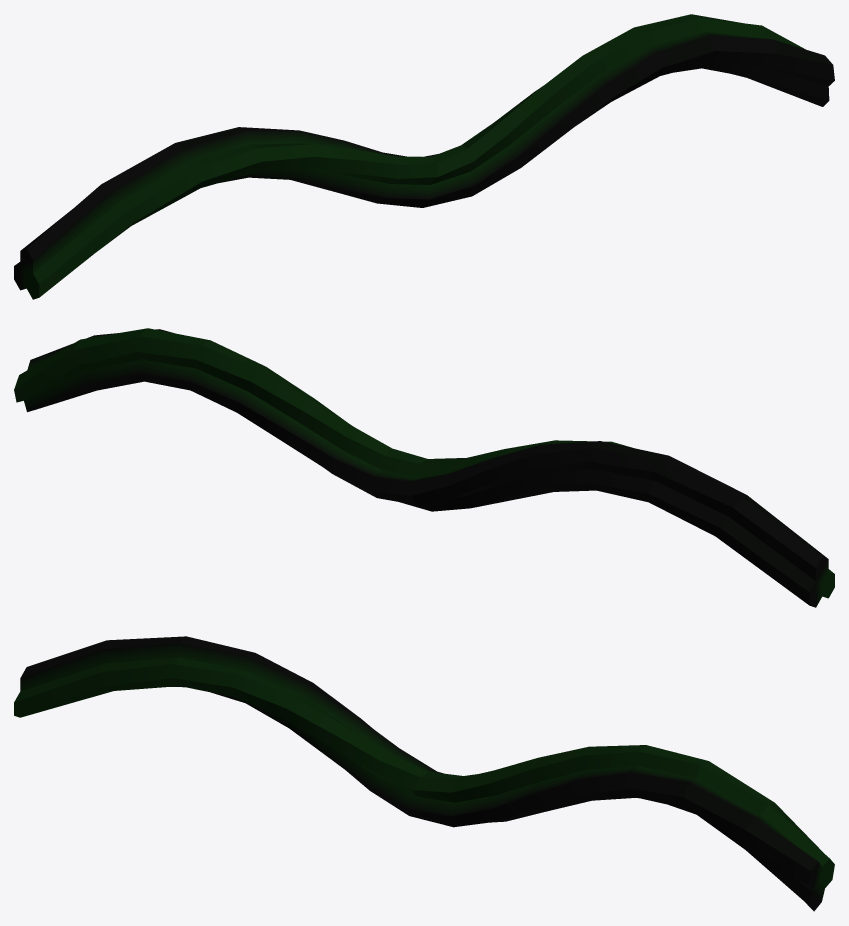
Rendered from vine_back.fbx.
3 renders of one model, top to bottom at view 1: azimuth 30°, elevation 25°; view 2: azimuth 150°, elevation 25°; view 3: azimuth 330°, elevation 25°, orthographic.
Parts seen in each view (by area): view 1: pCylinder6; view 2: pCylinder6; view 3: pCylinder6.
Boxes of the visible parts, x1,y1,x2,y2 form: pCylinder6: [14, 14, 834, 299]; pCylinder6: [14, 328, 834, 607]; pCylinder6: [14, 636, 834, 911].
Bounding box in the file's own units: 201 × 28.14 × 13.43.
